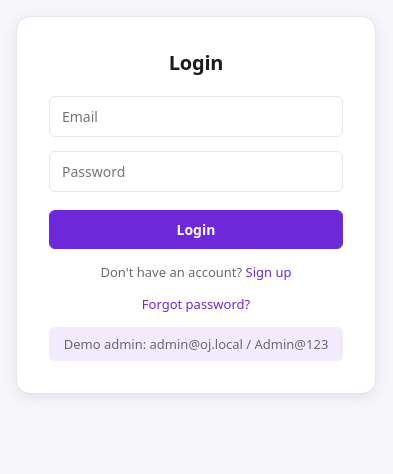
Test: Login page › shows an error message when login fails
Type "a@b.com" into the field with placeholder "Email".
click(196, 116); type("a@b.com")  # box [49, 96, 343, 137]
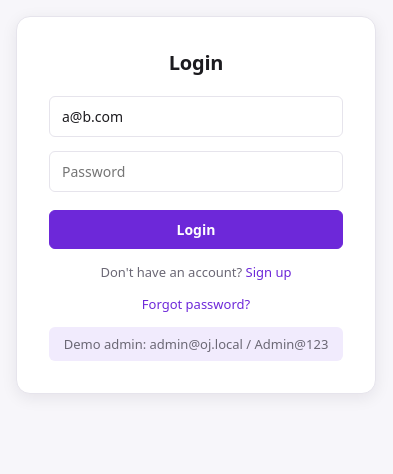
Type "wrongpass" into the password field with placeholder "Password".
click(196, 172); type("wrongpass")  # box [49, 151, 343, 192]
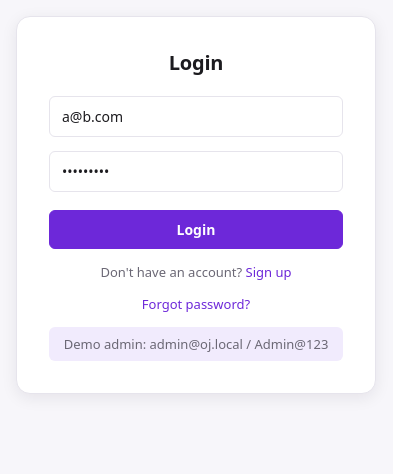
Click the button "Login".
click(196, 230)  # box [49, 210, 343, 249]
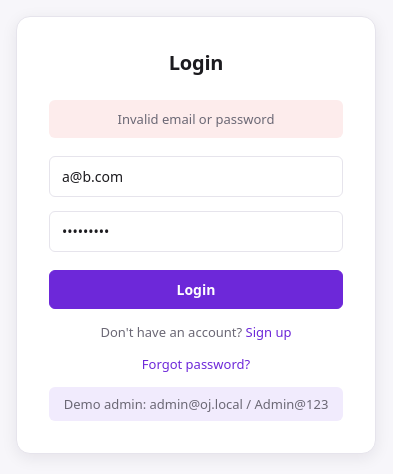
Expected: the text "Invalid email or password" is shown, [49, 100, 343, 138]
